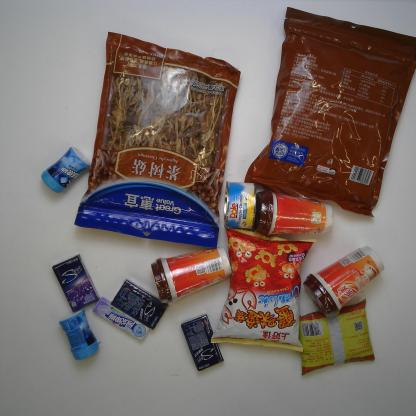Candy: (92, 296, 150, 341)
Canned Food: (222, 180, 258, 232)
Dried Food: (73, 29, 242, 250), (243, 5, 416, 220)
Gum: (111, 278, 171, 332), (52, 252, 99, 314), (179, 312, 225, 374), (57, 306, 104, 362), (40, 145, 91, 196)
Instant Drink: (303, 243, 387, 320), (150, 246, 234, 306), (254, 187, 334, 239)
Puffed Food: (209, 227, 318, 354)
Seasoner: (298, 296, 376, 376)
